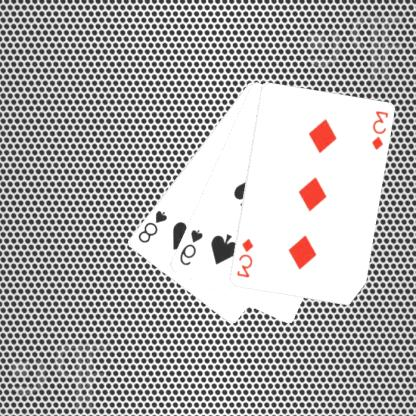3D: (235, 235, 256, 280), (371, 108, 391, 152)
6S: (178, 226, 206, 267)
8S: (136, 207, 171, 245)
